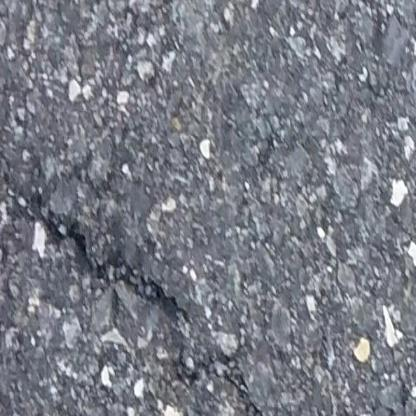Cracks: (7, 176, 254, 416)
